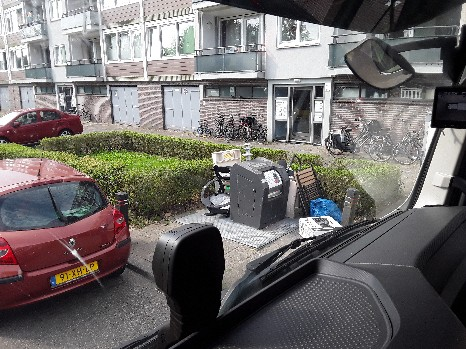Container: (236, 155, 279, 235)
Rest: (292, 161, 336, 231), (211, 151, 229, 212)
Voertuig: (2, 157, 119, 288), (334, 129, 410, 175), (9, 107, 83, 144), (203, 110, 264, 147)
